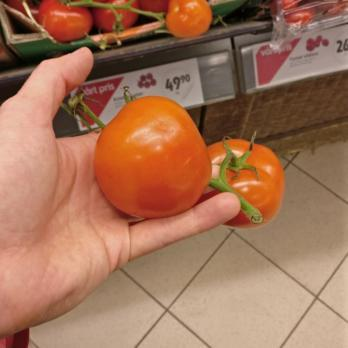Tomato: (93, 94, 211, 216), (209, 138, 286, 228)
